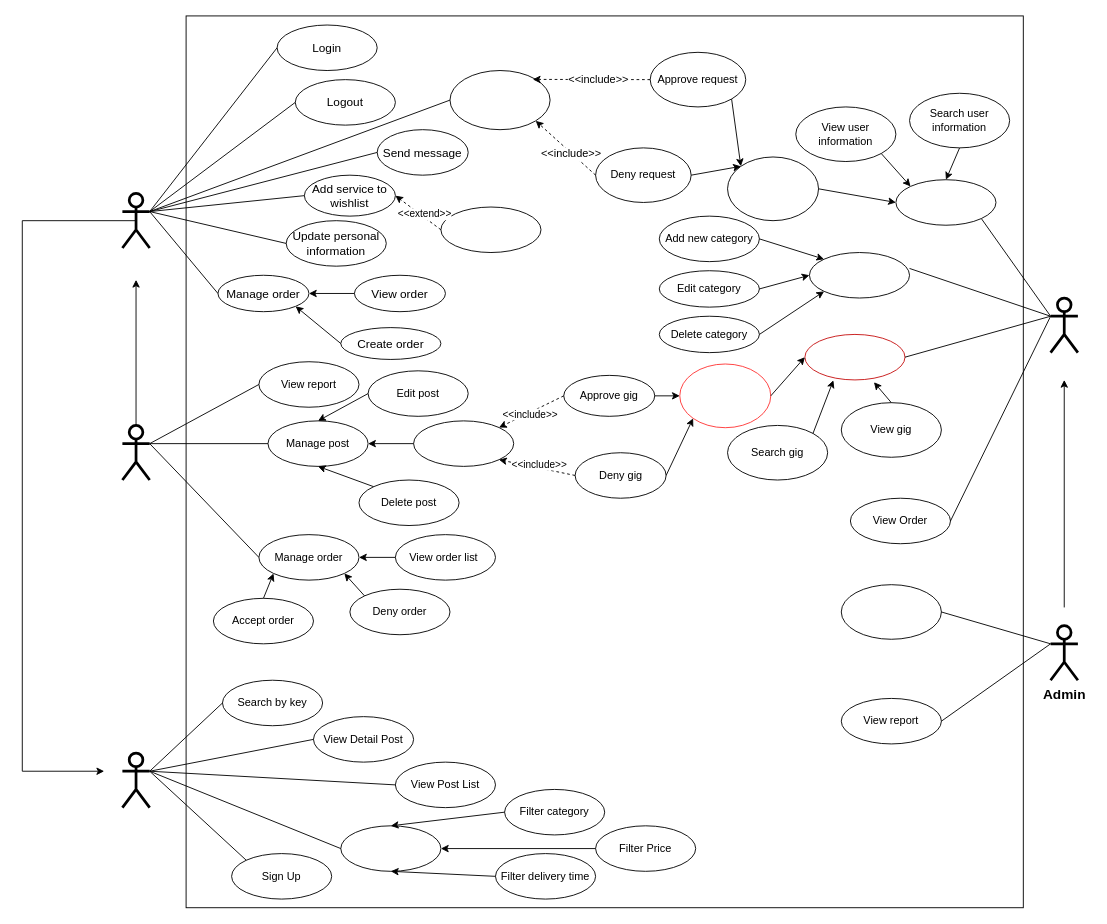
This 1107x924 diagram has some shape labels left out. Each missing label, with the centre of its shape:
"Buyer" goes at pixel 136 220.
"Confirm Gig" goes at pixel 725 395.
"Confirm Seller role" goes at pixel 773 188.
"Create Manager role" goes at pixel 890 611.
"Create post" goes at pixel 463 443.
"Filter" goes at pixel 390 848.
"Guest" goes at pixel 136 780.
"Manage Category" goes at pixel 859 275.
"Manage Gig" goes at pixel 854 357.
"Manage User" goes at pixel 945 202.
"Manager" goes at pixel 1064 325.
"Request become Seller" goes at pixel 499 100.
"Seller" goes at pixel 136 452.
"View wishlist" goes at pixel 490 229.
